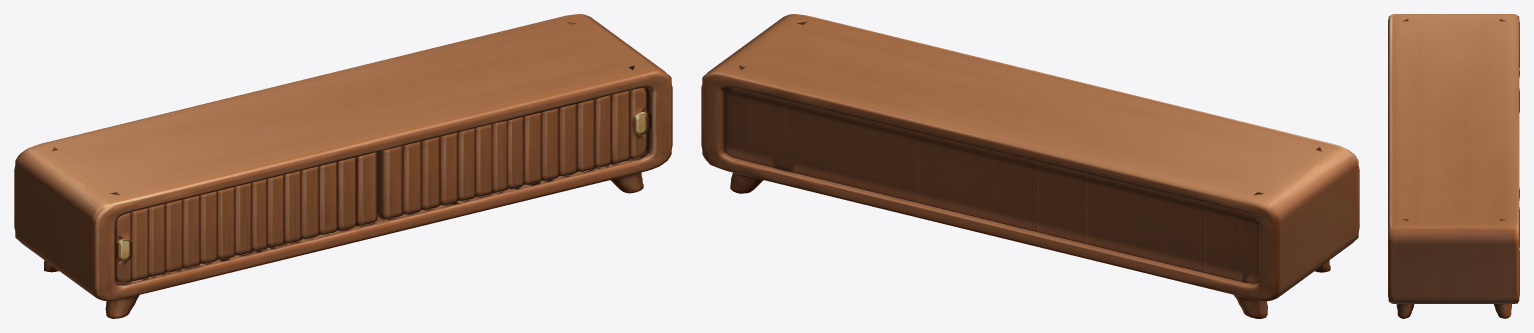
File: urban-long-media-console-v1.glb
3 views of the same model, side by side, from view 1: azimuth 30°, elevation 25°; view 2: azimuth 150°, elevation 25°; view 3: azimuth 270°, elevation 25° (orthographic). The views are drawn at different scales.
Visible parts, largest first — view 1: walnut-media-console-stylized-v2; view 2: walnut-media-console-stylized-v2; view 3: walnut-media-console-stylized-v2.
Part boxes in pixels (<box>): walnut-media-console-stylized-v2: <box>14,14,672,318</box>; walnut-media-console-stylized-v2: <box>701,14,1359,318</box>; walnut-media-console-stylized-v2: <box>1388,14,1519,318</box>.
Size of the model in its own units: 2.2 by 0.4412 by 0.5499.
Materials: 1 (1 with a texture image).
